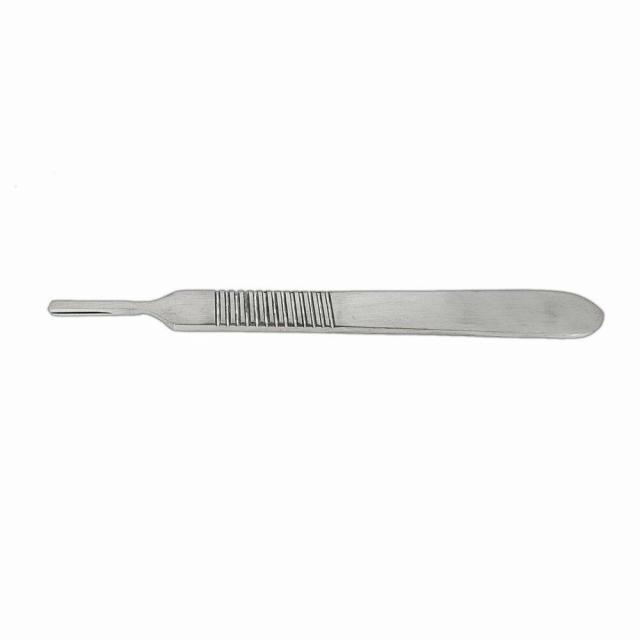Scalpel: (42, 285, 610, 345)
